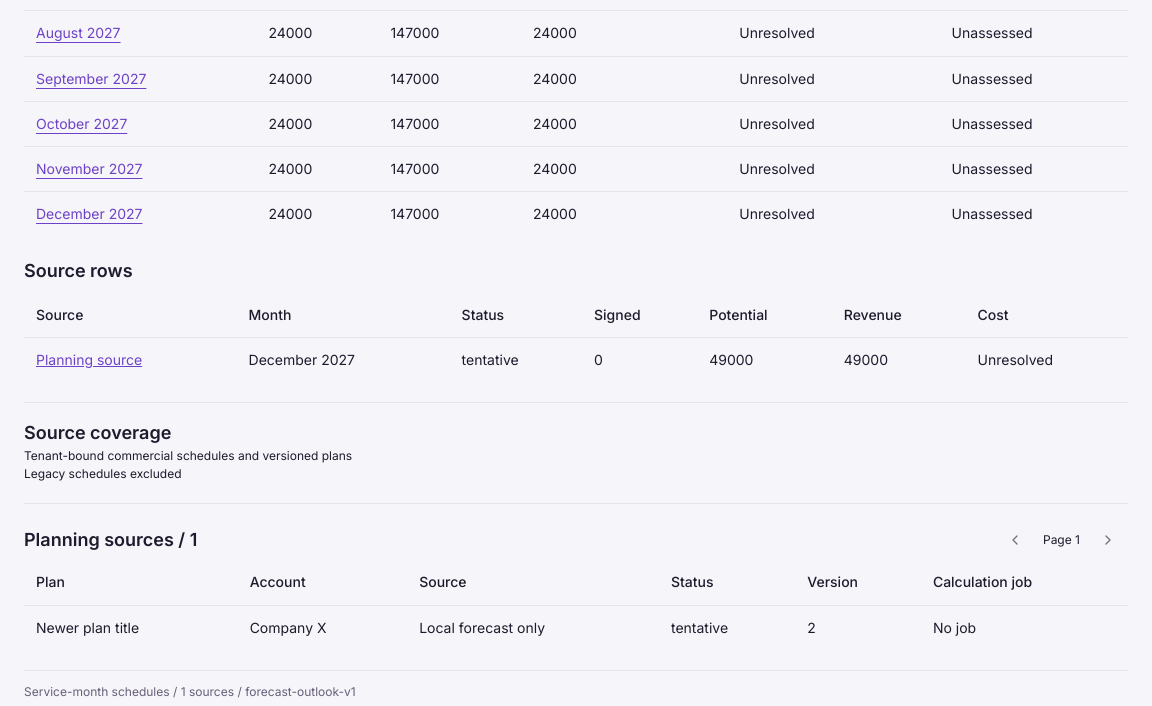
Scenario: Forecast › does not attach a newer plan version's assumptions to an older calculated row
The width and height of the screenshot is (1152, 706).
(page scrolled)
Click the button "Planning source": (89, 360) [36, 350, 142, 370]
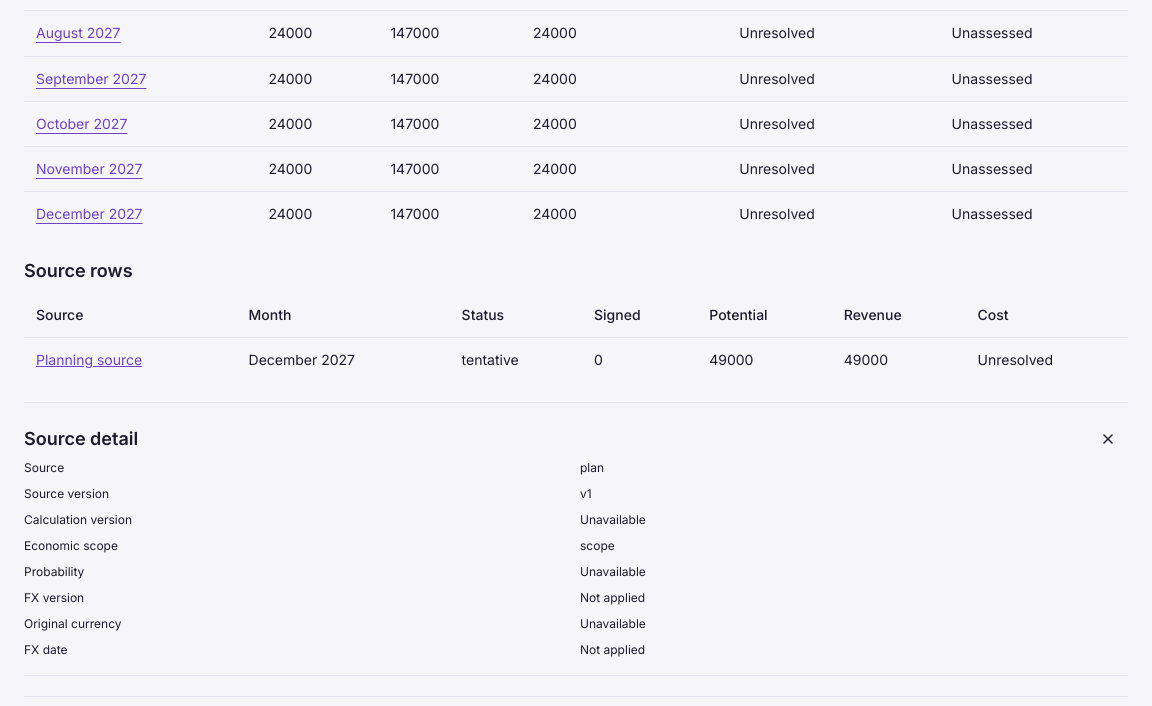
Result: the element "Source detail" shows "v1" at [580, 486, 592, 501]
